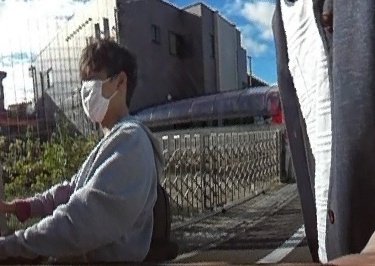person: (40, 39, 145, 261)
